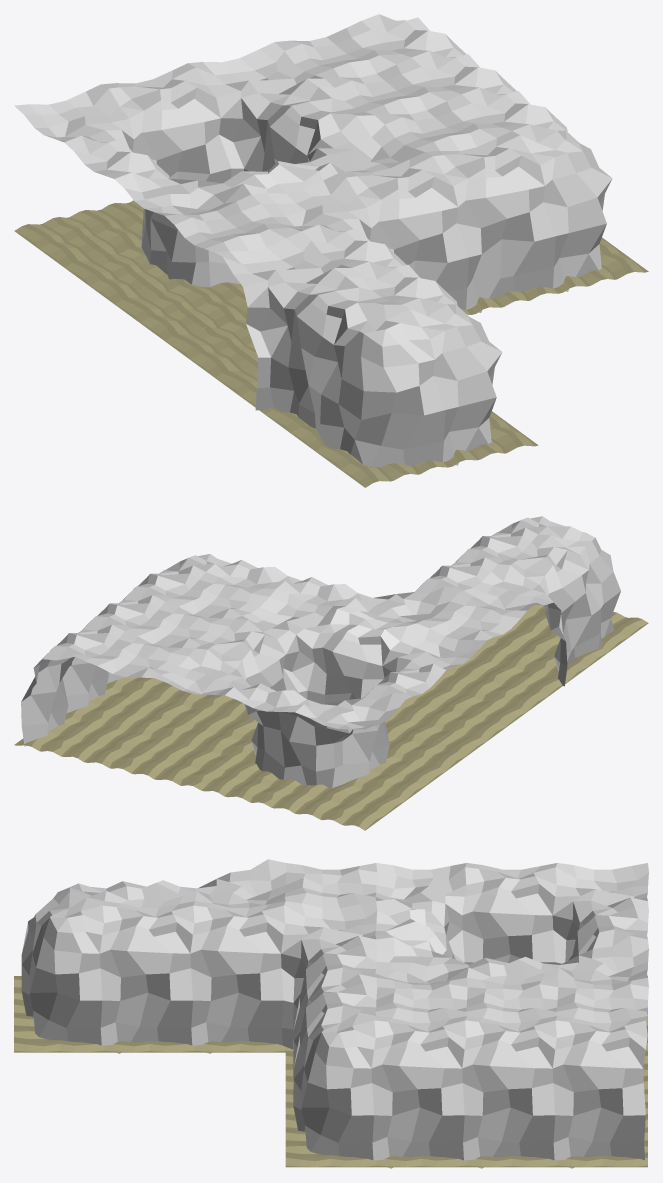
The picture shows the model from 3 angles, top to bottom: view 1: azimuth 30°, elevation 25°; view 2: azimuth 150°, elevation 25°; view 3: azimuth 270°, elevation 25°; orthographic projection. The views are drawn at different scales.
Parts seen in each view (by area): view 1: Rock Corner.004, Rock Wall.015, Rock Wall.013, Rock Wall, Rock Wall.009, Rock Corner, Rock Corner.001, Rock Inner Corner.005, Rock Inner Corner.002, Rock Wall.008, Rock Wall.007, Rock Inner Corner.004 (+25 smaller); view 2: Rock Wall.010, Rock Wall.009, Rock Wall, Rock Wall.005, Rock Inner Corner.003, Rock Wall.008, Rock Wall.007, Rock Wall.006, Rock Inner Corner.005, Rock Inner Corner.004, Rock Inner Corner.002, Rock Inner Corner.001 (+34 smaller); view 3: Rock Wall.014, Rock Wall.012, Rock Wall.005, Rock Wall.006, Rock Wall.011, Rock Corner.001, Rock Corner, Rock Wall.007, Rock Inner Corner, Rock Inner Corner.004, Rock Inner Corner.001, Rock Ceiling.004 (+20 smaller).
Part boxes in pixels (x1=…): Rock Corner.004: x1=320, y1=304, x2=445, y2=467; Rock Wall.015: x1=425, y1=131, x2=555, y2=312; Rock Wall.013: x1=338, y1=152, x2=468, y2=309; Rock Wall: x1=270, y1=268, x2=400, y2=442; Rock Wall.009: x1=101, y1=63, x2=231, y2=183; Rock Corner: x1=512, y1=124, x2=612, y2=291; Rock Corner.001: x1=402, y1=298, x2=502, y2=465; Rock Inner Corner.005: x1=215, y1=231, x2=350, y2=410; Rock Inner Corner.002: x1=188, y1=42, x2=323, y2=177; Rock Wall.008: x1=244, y1=78, x2=373, y2=171; Rock Wall.007: x1=64, y1=135, x2=195, y2=284; Rock Inner Corner.004: x1=14, y1=84, x2=145, y2=246; Rock Wall.010: x1=307, y1=606, x2=415, y2=703; Rock Wall.009: x1=225, y1=683, x2=334, y2=788; Rock Wall: x1=498, y1=534, x2=601, y2=670; Rock Wall.005: x1=21, y1=625, x2=124, y2=746; Rock Inner Corner.003: x1=236, y1=589, x2=344, y2=698; Rock Wall.008: x1=195, y1=618, x2=298, y2=755; Rock Wall.007: x1=342, y1=663, x2=445, y2=782; Rock Wall.006: x1=62, y1=595, x2=164, y2=713; Rock Inner Corner.005: x1=457, y1=564, x2=567, y2=686; Rock Inner Corner.004: x1=295, y1=693, x2=405, y2=787; Rock Inner Corner.002: x1=155, y1=648, x2=264, y2=770; Rock Inner Corner.001: x1=382, y1=623, x2=486, y2=677; Rock Wall.014: x1=371, y1=1016, x2=466, y2=1168; Rock Wall.012: x1=190, y1=901, x2=285, y2=1053; Rock Wall.005: x1=552, y1=1016, x2=647, y2=1168; Rock Wall.006: x1=462, y1=1016, x2=557, y2=1168; Rock Wall.011: x1=100, y1=901, x2=194, y2=1053; Rock Corner.001: x1=21, y1=897, x2=104, y2=1045; Rock Corner: x1=293, y1=1012, x2=375, y2=1159; Rock Wall.007: x1=462, y1=863, x2=557, y2=964; Rock Inner Corner: x1=281, y1=901, x2=377, y2=1049; Rock Inner Corner.004: x1=552, y1=863, x2=648, y2=964; Rock Inner Corner.001: x1=375, y1=863, x2=466, y2=962; Rock Ceiling.004: x1=284, y1=863, x2=377, y2=907.
Bounding box in the file's own units: 10.1 × 3.02 × 14.02.
